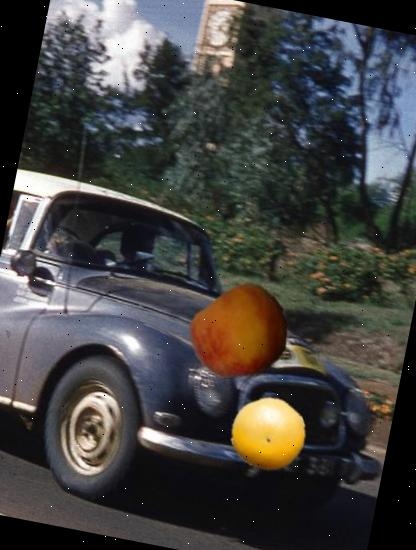Grapefruit: (224, 390, 312, 478)
Peach: (183, 277, 298, 392)
